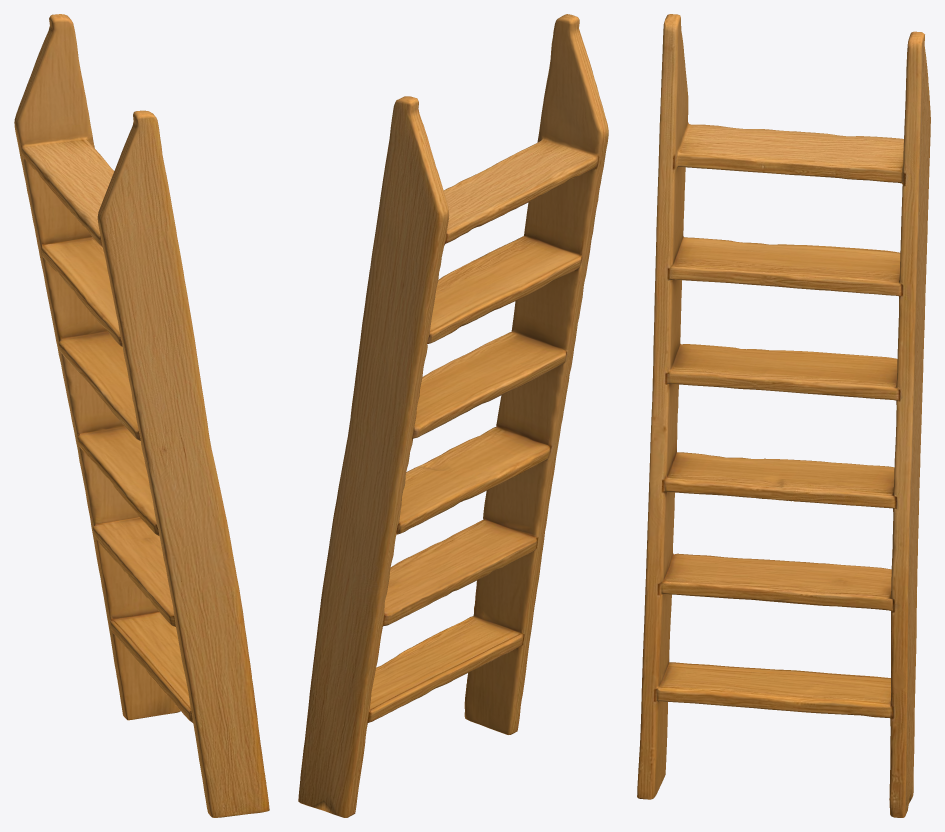
File: ladder.glb
3 renders of one model, left to right at view 1: azimuth 30°, elevation 25°; view 2: azimuth 150°, elevation 25°; view 3: azimuth 270°, elevation 25°, orthographic. The views are drawn at different scales.
Parts seen in each view (by area): view 1: tripo_node_4be96f1d-1454-4ef7-aae1-9bc3acf2c2b4; view 2: tripo_node_4be96f1d-1454-4ef7-aae1-9bc3acf2c2b4; view 3: tripo_node_4be96f1d-1454-4ef7-aae1-9bc3acf2c2b4.
Boxes of the visible parts, x1,y1,x2,y2 form: tripo_node_4be96f1d-1454-4ef7-aae1-9bc3acf2c2b4: [14, 14, 269, 817]; tripo_node_4be96f1d-1454-4ef7-aae1-9bc3acf2c2b4: [298, 14, 608, 817]; tripo_node_4be96f1d-1454-4ef7-aae1-9bc3acf2c2b4: [637, 14, 930, 817].
Bounding box in the file's own units: 0.2714 × 0.9792 × 0.3579.
1 material, 1 textured.
